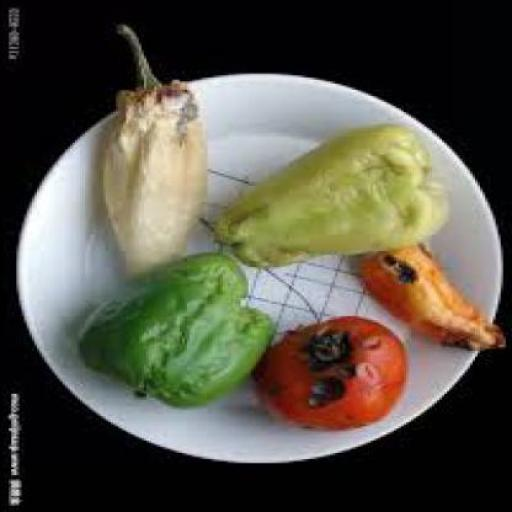biodegradable: (222, 124, 450, 272), (79, 255, 278, 410), (102, 25, 208, 283), (257, 318, 410, 433), (357, 242, 507, 354)
